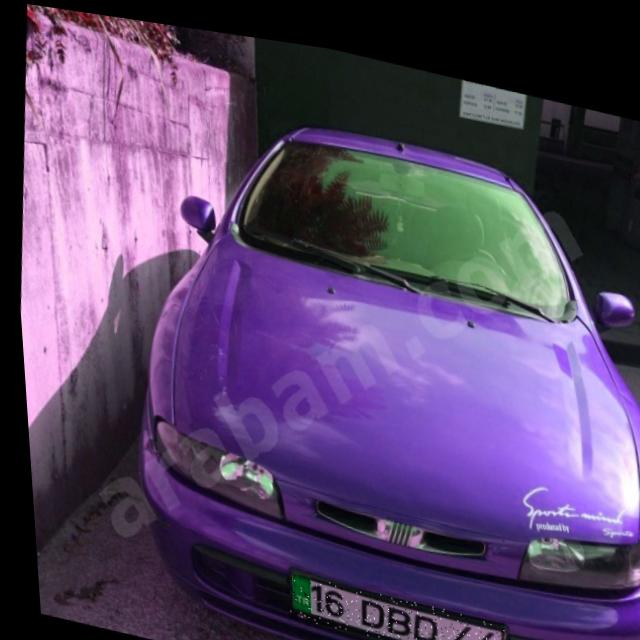license_plate: (279, 565, 498, 640)
